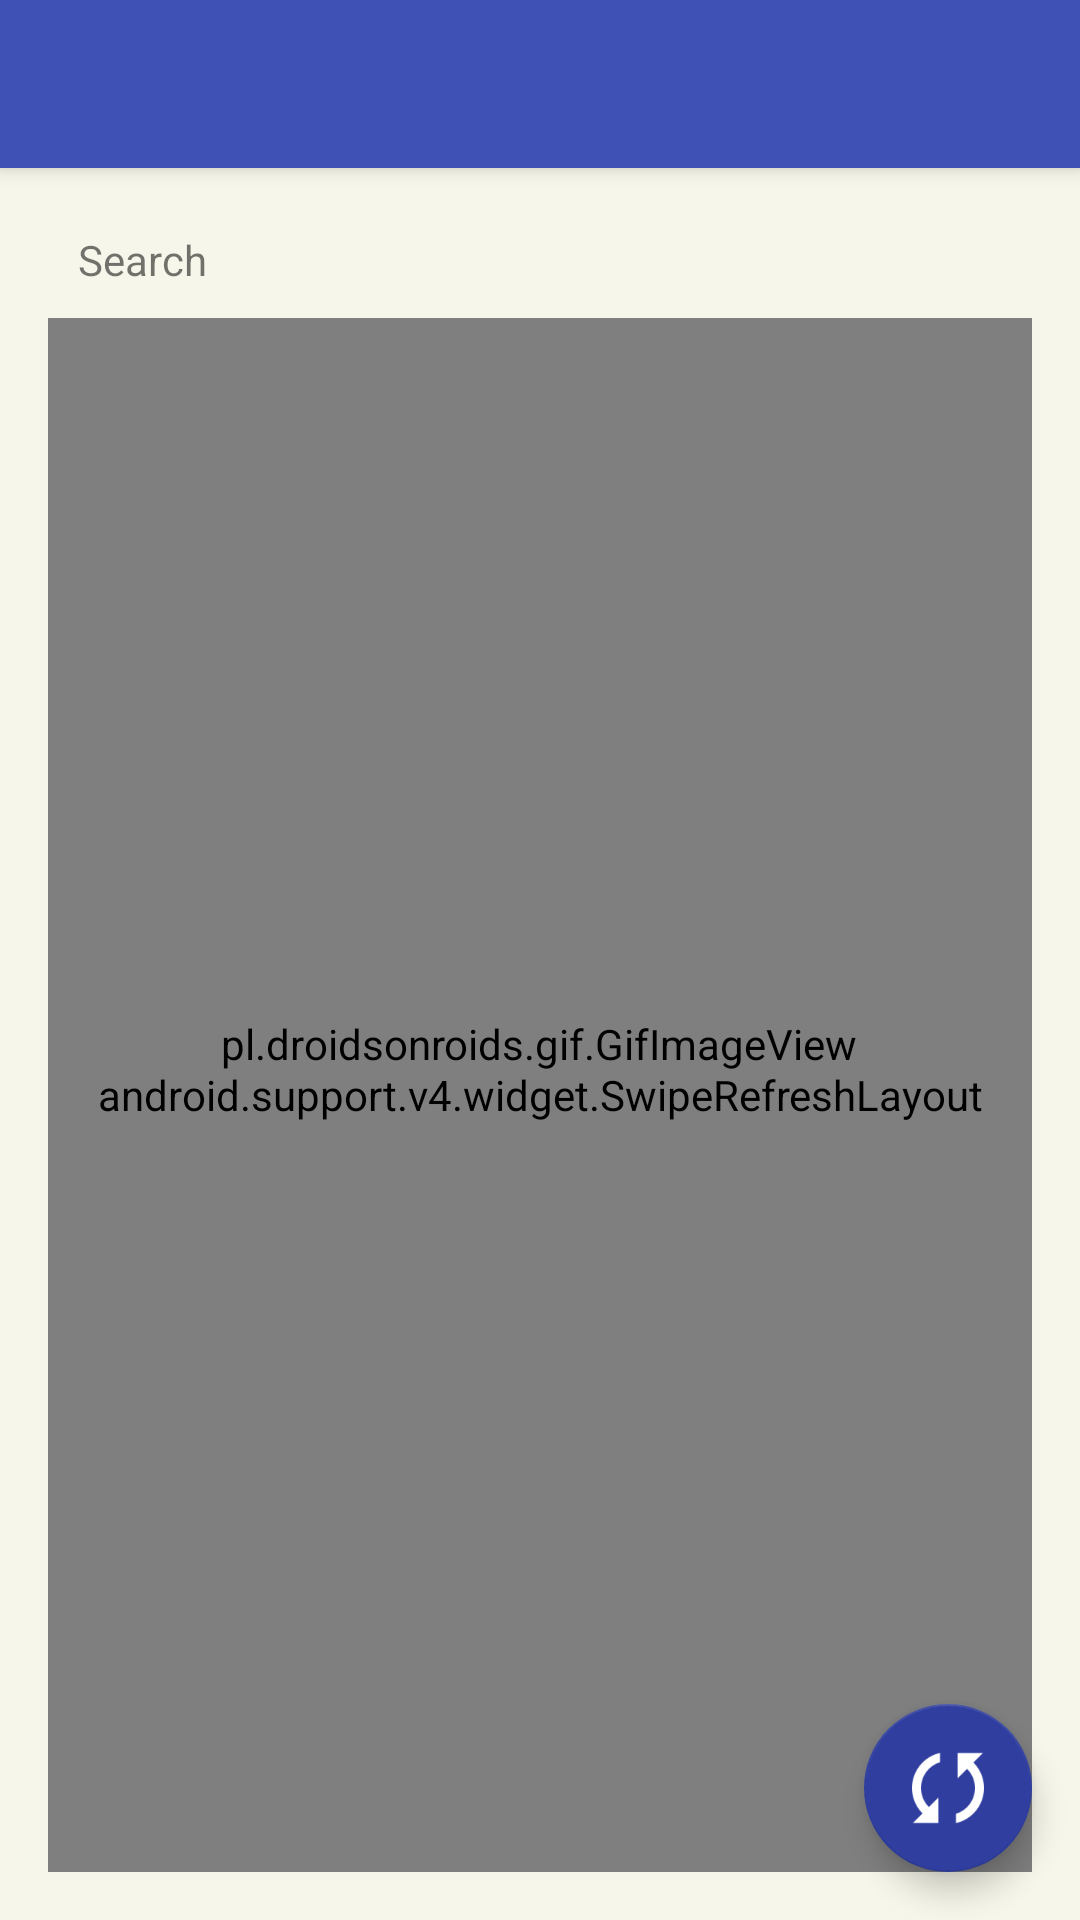

Icon click points for this 1080*1920 phone screenshot, format (x,y):
reload: (948,1788)
